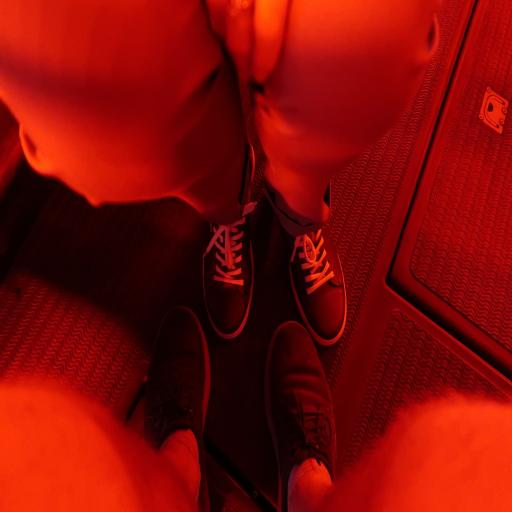shoe: (144, 307, 210, 510), (265, 322, 335, 511), (286, 226, 346, 346), (203, 203, 255, 339)
